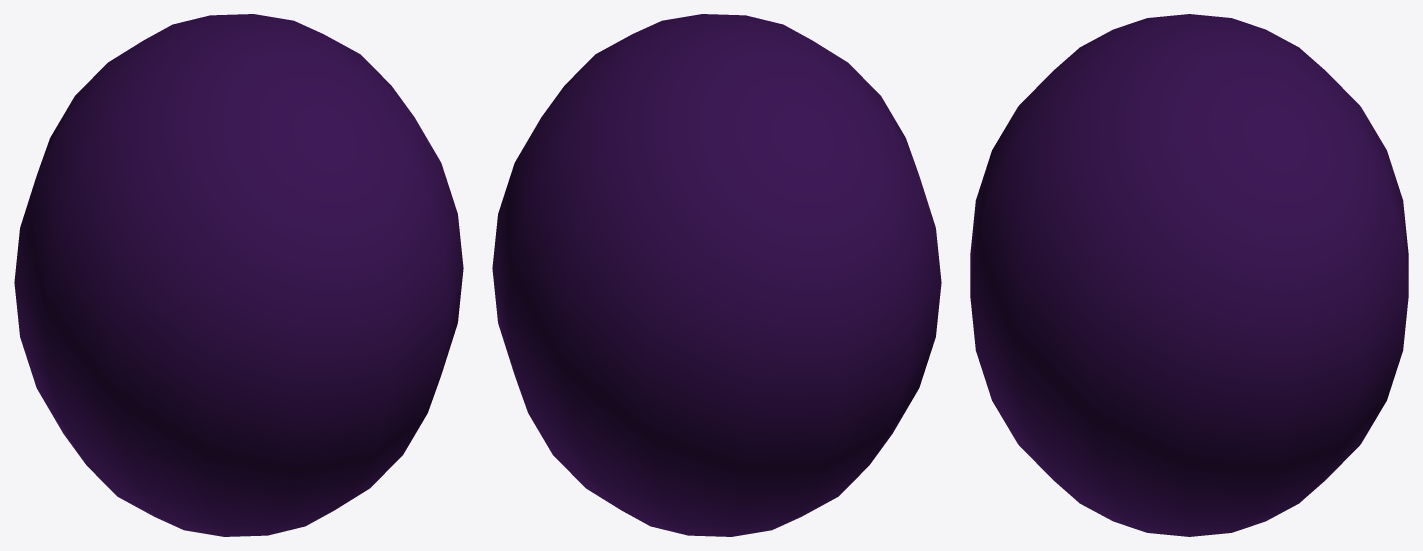
File: Vagalumorte_stage3.obj
3 views of the same model, side by side, from view 1: azimuth 30°, elevation 25°; view 2: azimuth 150°, elevation 25°; view 3: azimuth 270°, elevation 25° (orthographic).
Size of the model in its own units: 2.6 by 3.12 by 2.53.
